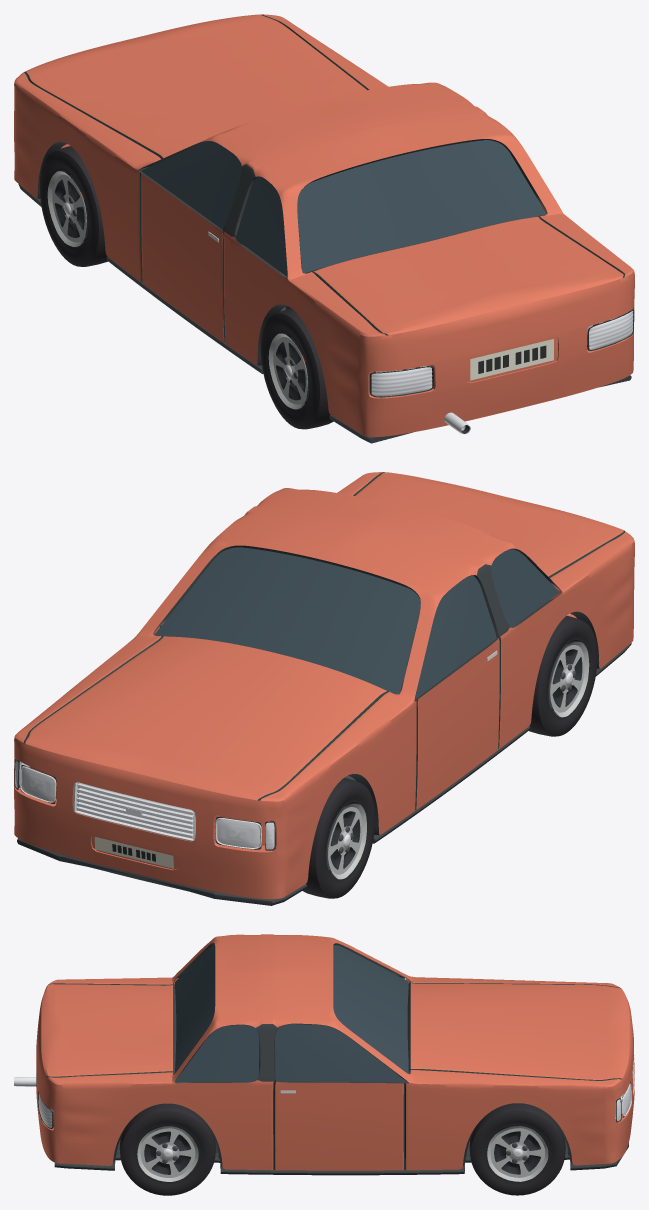
File: forge_closed_defaults.fbx
3 views of the same model, one above another, from view 1: azimuth 30°, elevation 25°; view 2: azimuth 150°, elevation 25°; view 3: azimuth 270°, elevation 25° (orthographic). The views are drawn at different scales.
Parts seen in each view (by area): view 1: Body, Wheel_RL_Mesh, Wheel_FL_Mesh; view 2: Body, Wheel_FL_Mesh, Wheel_RL_Mesh; view 3: Body, Wheel_FR_Mesh, Wheel_RR_Mesh.
Part boxes in pixels (box(x1,y1,x2,y2)): Body: box(14, 14, 634, 443); Wheel_RL_Mesh: box(261, 308, 333, 429); Wheel_FL_Mesh: box(39, 146, 107, 266); Body: box(14, 472, 634, 905); Wheel_FL_Mesh: box(302, 777, 375, 898); Wheel_RL_Mesh: box(529, 616, 597, 736); Body: box(14, 934, 634, 1175); Wheel_FR_Mesh: box(469, 1103, 565, 1195); Wheel_RR_Mesh: box(119, 1103, 215, 1195).
Bounding box in the file's own units: 154 × 114 × 370.
